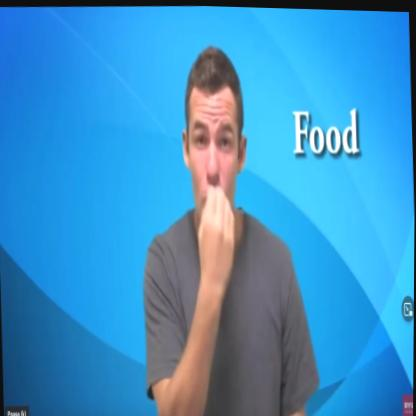Food: (165, 37, 267, 286)
